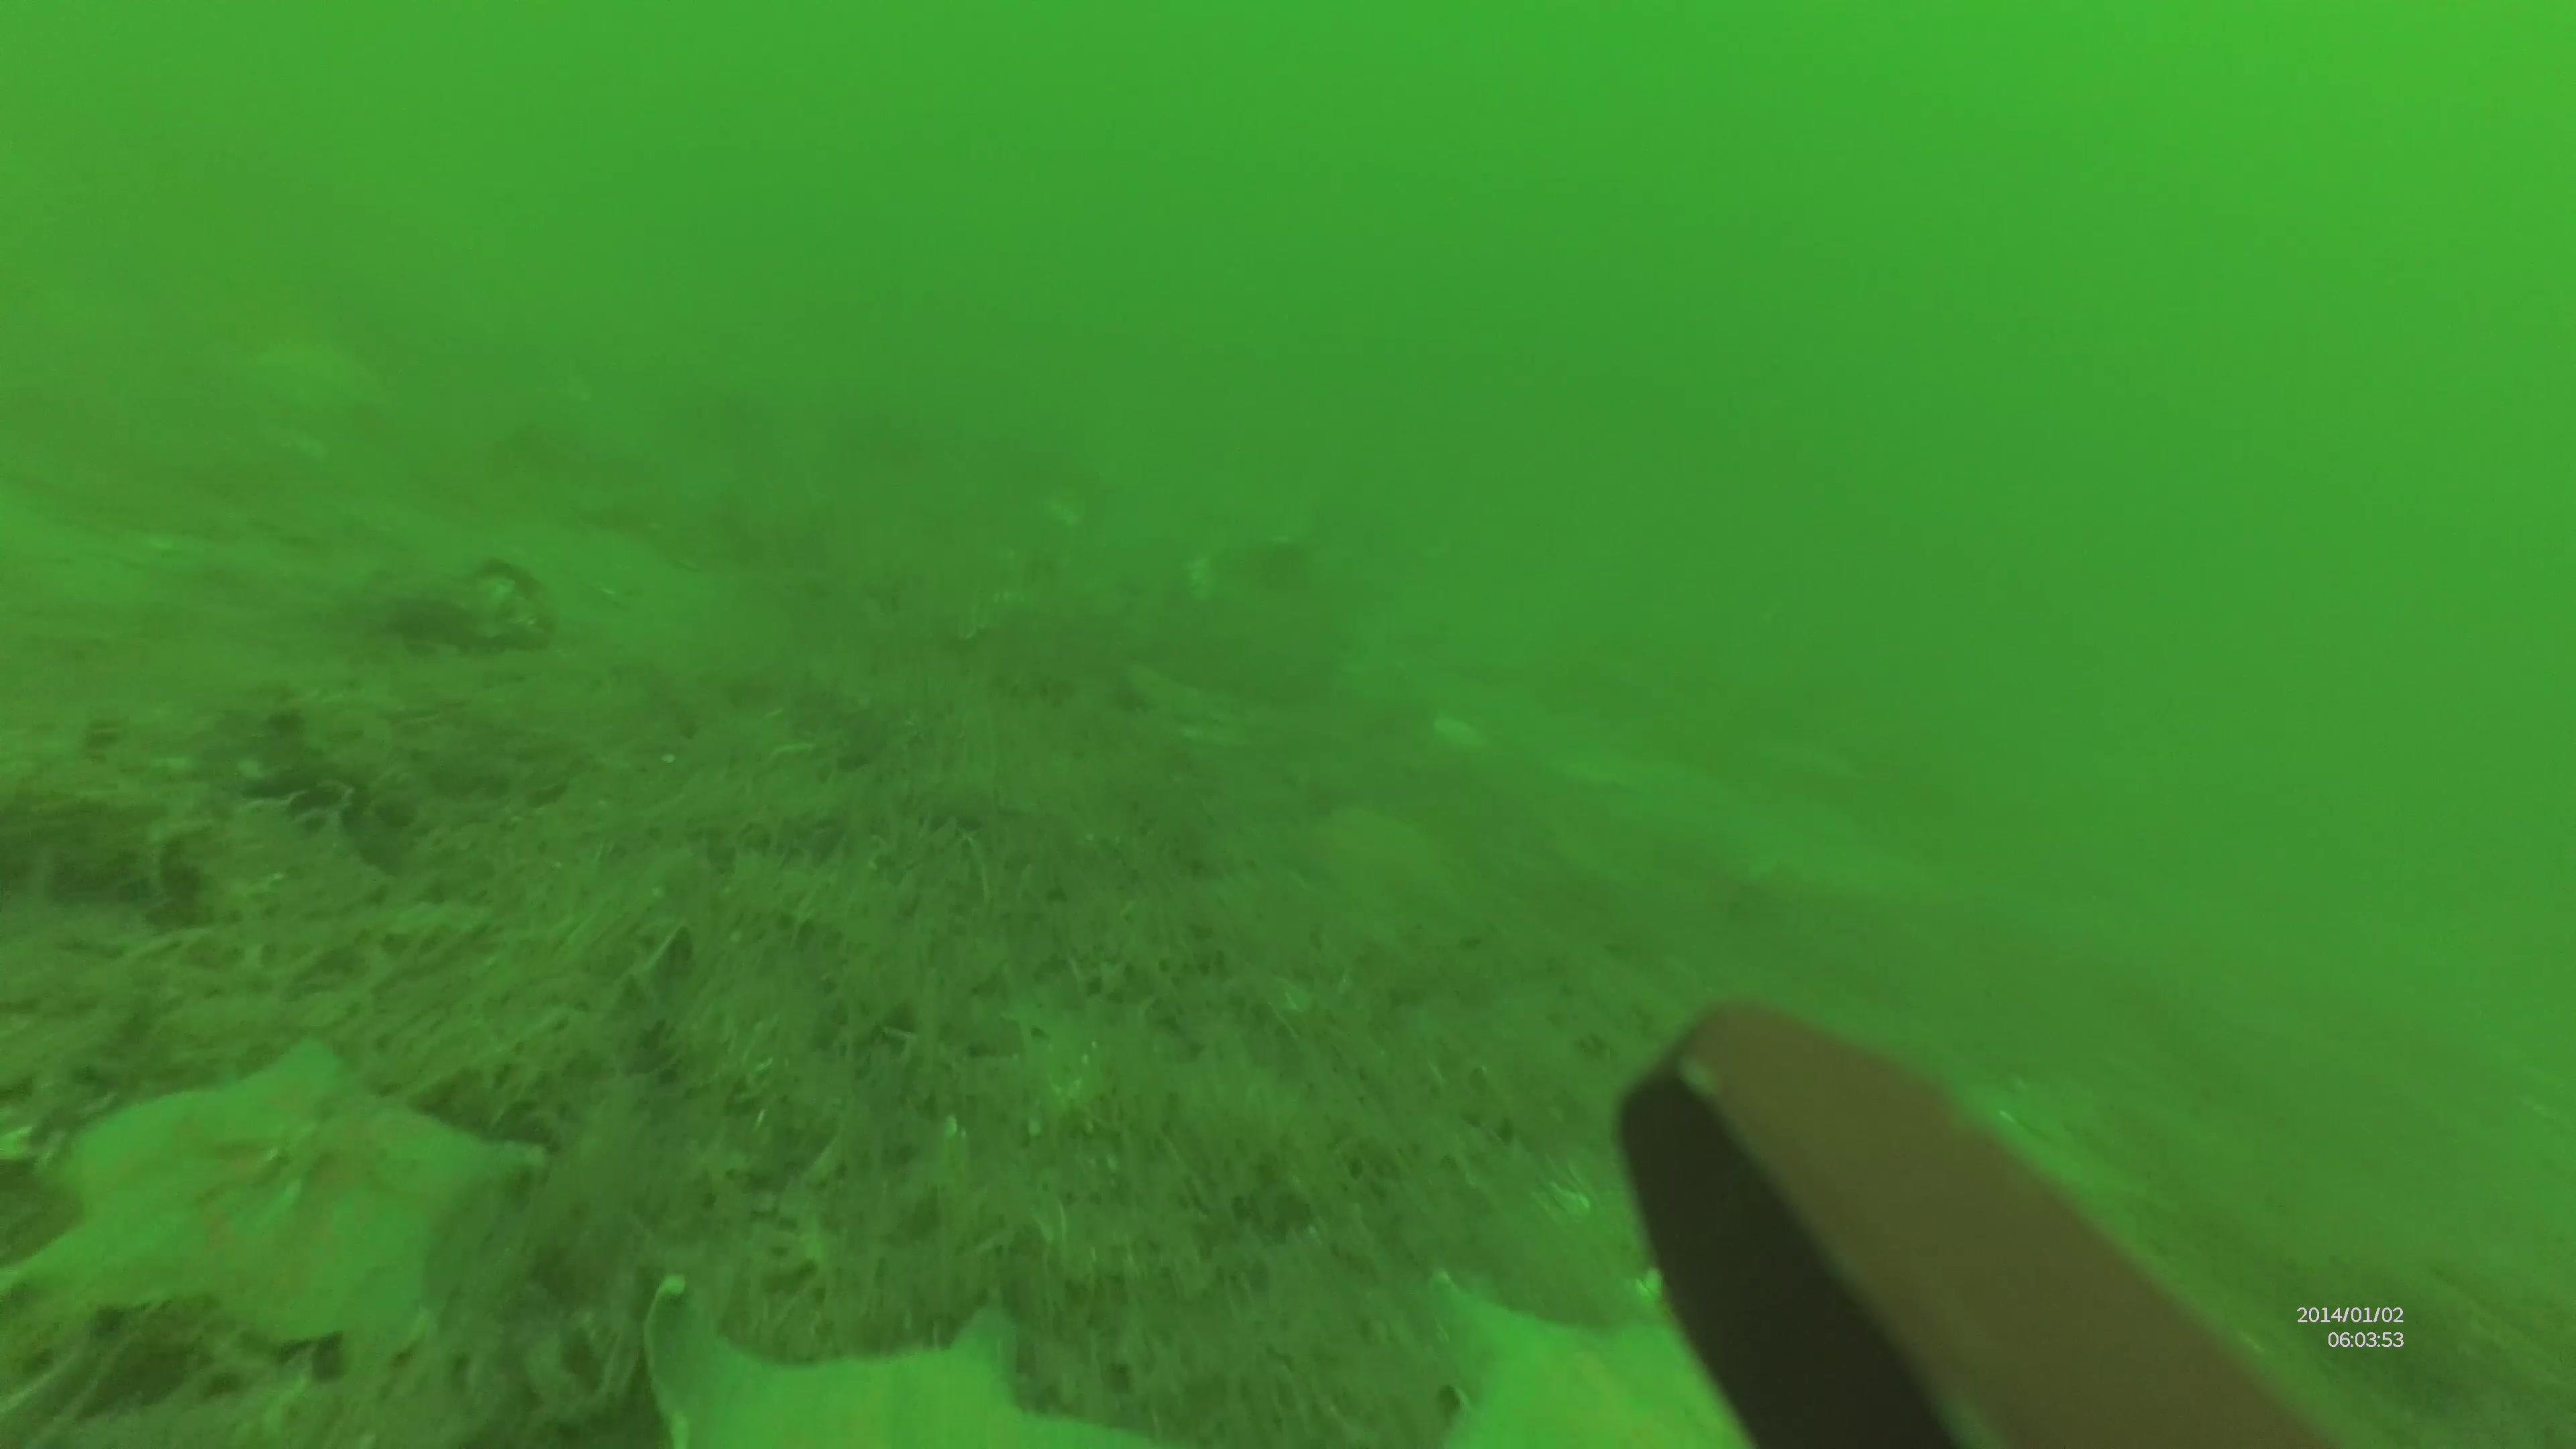starfish: (0, 1035, 548, 1357), (637, 1263, 1168, 1449), (1414, 1265, 1757, 1449)
